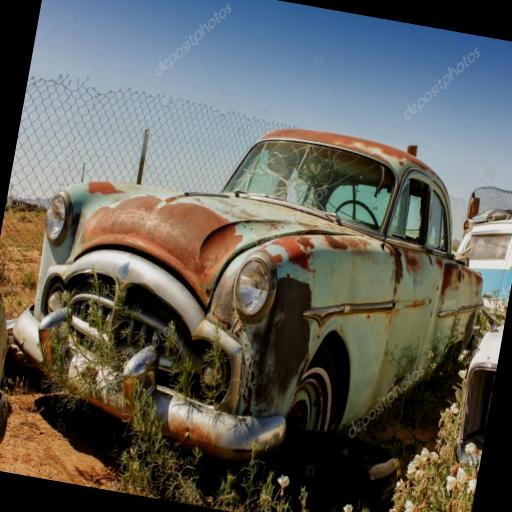corrosion: (77, 191, 236, 292), (261, 124, 438, 172)
